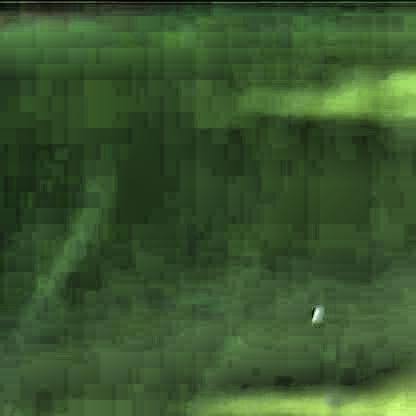golfball: (307, 295, 320, 319)
